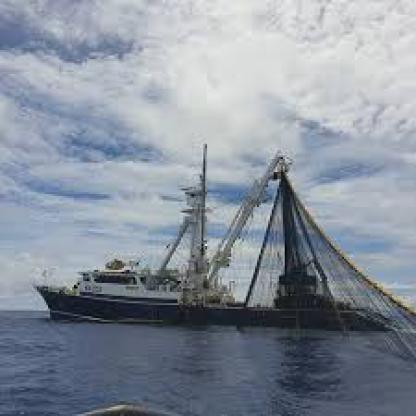fish-b: (30, 137, 414, 342)
